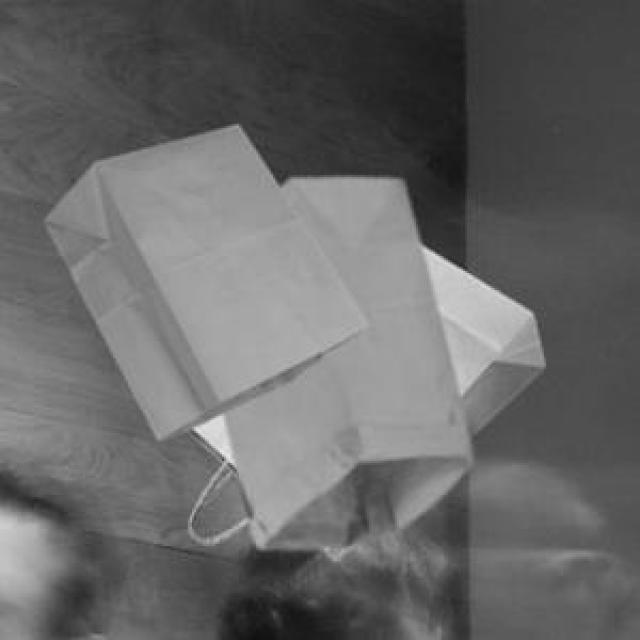paper: (184, 241, 540, 557), (41, 122, 365, 435), (220, 175, 467, 544)
